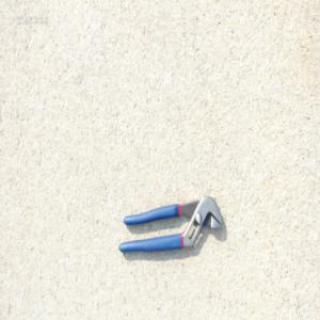Pliertrack_idkeyframe: (118, 193, 226, 252)
